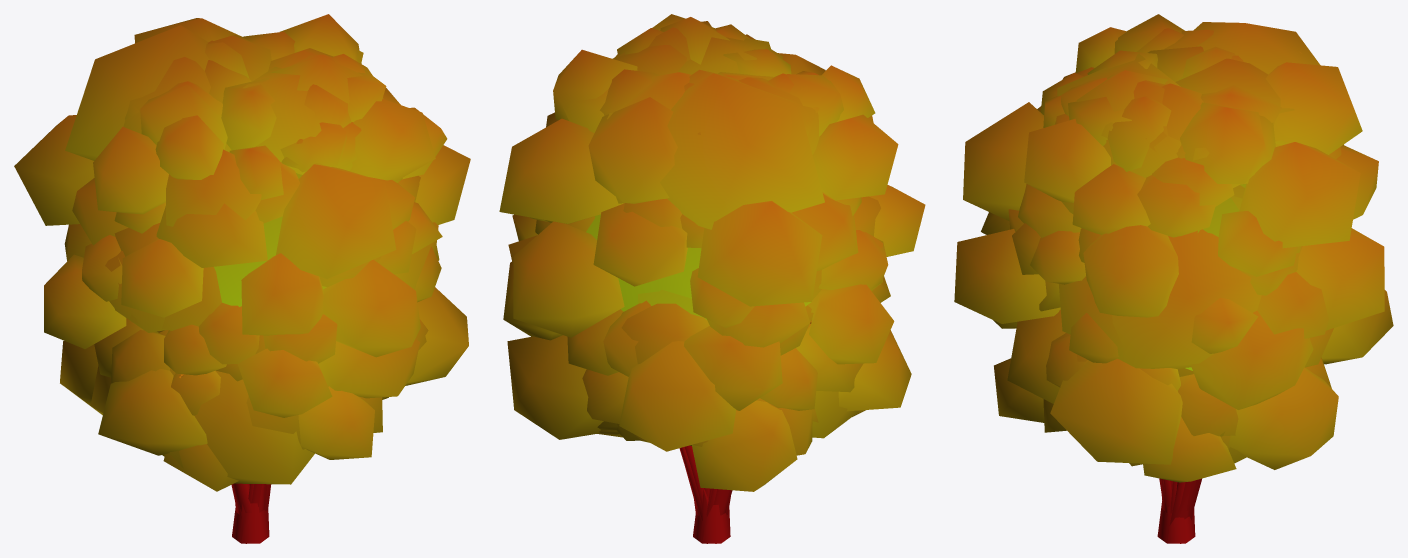
File: rowan.glb
3 views of the same model, side by side, from view 1: azimuth 30°, elevation 25°; view 2: azimuth 150°, elevation 25°; view 3: azimuth 270°, elevation 25° (orthographic).
Parts seen in each view (by area): view 1: v3, v2, v1, v3_far, v0, v4, v5, v4_far, v1_far, v0_far, v5_far, v2_far; view 2: v3, v3_far, v1, v2, v0, v4, v5, v4_far, v0_far, v2_far, v5_far, v1_far; view 3: v3, v5, v1, v2, v3_far, v5_far, v4, v0, v2_far, v0_far, v4_far, v1_far.
Boxes of the visible parts, x1,y1,x2,y2 form: v3: [14, 14, 470, 543]; v2: [64, 31, 441, 515]; v1: [82, 54, 442, 432]; v3_far: [65, 25, 439, 519]; v0: [111, 42, 402, 488]; v4: [114, 40, 420, 543]; v5: [158, 50, 447, 512]; v4_far: [241, 66, 352, 543]; v1_far: [123, 57, 328, 449]; v0_far: [130, 48, 333, 330]; v5_far: [214, 35, 438, 510]; v2_far: [105, 54, 334, 512]; v3: [499, 21, 925, 543]; v3_far: [638, 73, 858, 516]; v1: [508, 28, 888, 494]; v2: [535, 17, 890, 515]; v0: [545, 24, 862, 446]; v4: [680, 49, 880, 543]; v5: [512, 14, 810, 543]; v4_far: [678, 37, 821, 541]; v0_far: [613, 45, 880, 515]; v2_far: [597, 27, 882, 520]; v5_far: [607, 72, 702, 523]; v1_far: [738, 77, 819, 154]; v3: [954, 27, 1393, 482]; v5: [1012, 46, 1297, 543]; v1: [1030, 14, 1378, 449]; v2: [981, 28, 1341, 510]; v3_far: [1089, 22, 1320, 513]; v5_far: [1059, 58, 1294, 525]; v4: [1039, 50, 1243, 543]; v0: [1008, 46, 1300, 361]; v2_far: [1103, 80, 1246, 507]; v0_far: [1145, 83, 1203, 509]; v4_far: [1057, 54, 1195, 542]; v1_far: [1163, 29, 1213, 49].
Bounding box in the file's own units: 8.79 × 11.06 × 8.81.
